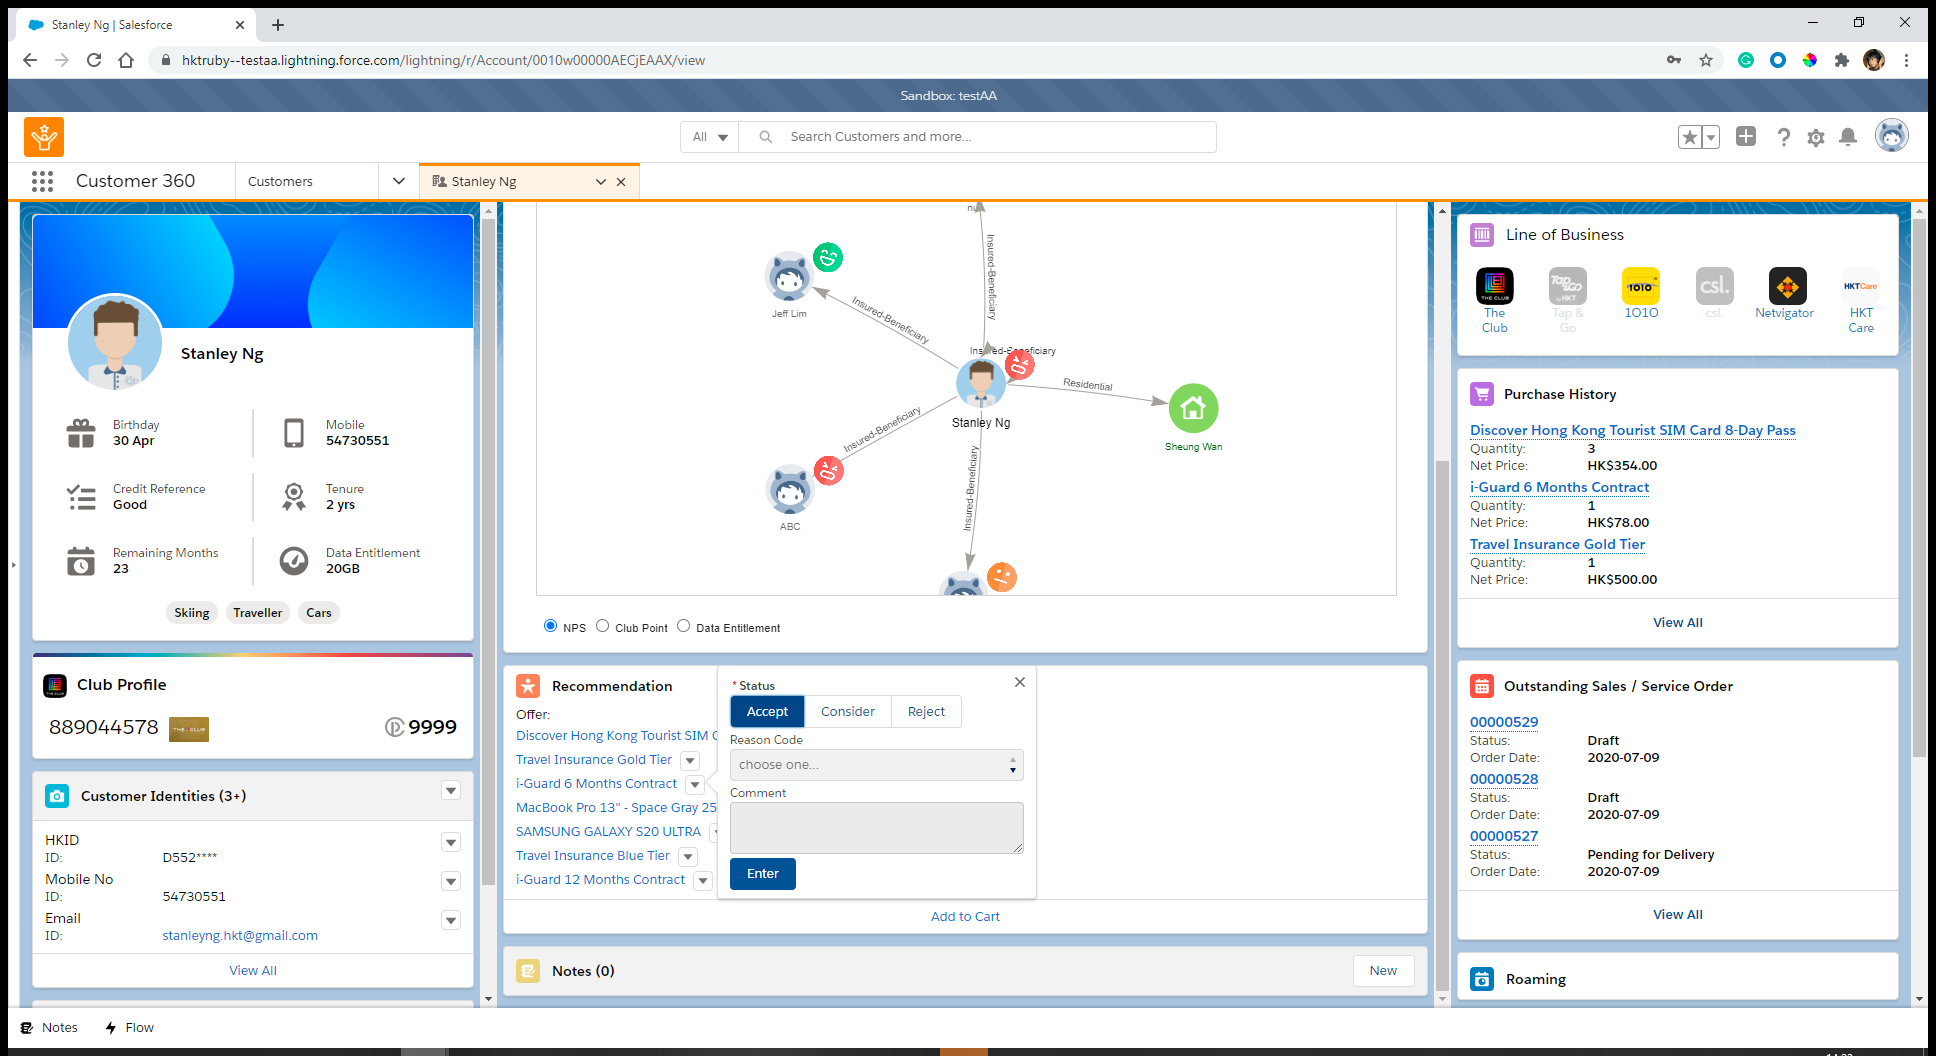BUTTON: (728, 854, 798, 890), (1351, 952, 1419, 987), (226, 600, 289, 624), (166, 600, 217, 624)
COMBOBOX: (729, 748, 1022, 780), (677, 120, 739, 152)
DROPDOWN_HANDLE: (582, 164, 615, 200), (384, 164, 417, 198), (993, 749, 1022, 780), (710, 120, 739, 150)
IMAGEBUTTON: (1874, 117, 1913, 155), (295, 598, 339, 622), (1831, 120, 1862, 152), (1799, 121, 1829, 151), (1731, 121, 1760, 150), (1768, 122, 1797, 150), (1692, 124, 1720, 150), (1680, 124, 1707, 150), (1861, 48, 1887, 73), (17, 47, 43, 72), (114, 47, 139, 72), (81, 48, 107, 72), (1764, 48, 1789, 72), (1693, 48, 1718, 72), (1828, 48, 1851, 72), (49, 48, 73, 72), (1734, 48, 1758, 72), (152, 47, 176, 70), (1797, 49, 1820, 72), (1662, 49, 1684, 70), (677, 844, 700, 865), (441, 908, 462, 929), (441, 778, 462, 799), (690, 867, 711, 888), (1896, 49, 1915, 70), (442, 831, 462, 851), (681, 748, 700, 769), (442, 869, 460, 888), (685, 772, 703, 792), (1012, 672, 1028, 689), (1851, 16, 1866, 30), (1807, 16, 1822, 30)
POP_UP: (716, 667, 1038, 897)
RADIOBUTTON_CLICKED: (543, 618, 558, 632)
RADIOBUTTON_UNCLICKED: (594, 616, 608, 632), (676, 616, 690, 631)
SCROLLBAR_VERTICAL: (1911, 203, 1927, 1005), (1434, 202, 1450, 1004), (481, 205, 497, 1007)
SCROLLBAR_VERTICAL_BAR: (482, 221, 497, 888), (1911, 208, 1926, 758), (1434, 459, 1446, 986)
SCROLLBAR_VERTICAL_HANDLE: (1909, 987, 1927, 1005), (1435, 987, 1451, 1007), (1433, 202, 1448, 221), (478, 987, 495, 1003), (482, 205, 498, 221), (1911, 203, 1926, 220)
SEARCHBOX: (737, 121, 1218, 152)
SEARCH_ICON_LEFT: (753, 124, 780, 148)
TEXTBOX: (727, 801, 1023, 851)
